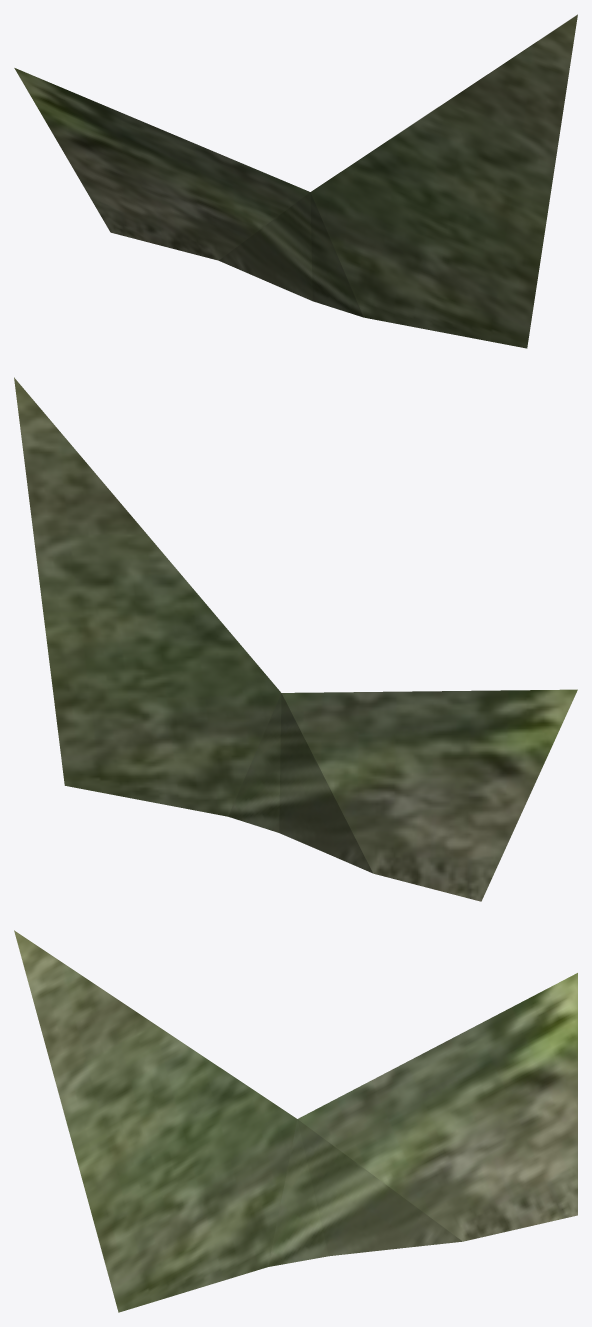
3 views of the same model, one above another, from view 1: azimuth 30°, elevation 25°; view 2: azimuth 210°, elevation 25°; view 3: azimuth 270°, elevation 25° (orthographic). The views are drawn at different scales.
Size of the model in its own units: 2.87 by 3.51 by 4.69.
Materials: 1 (1 with a texture image).
